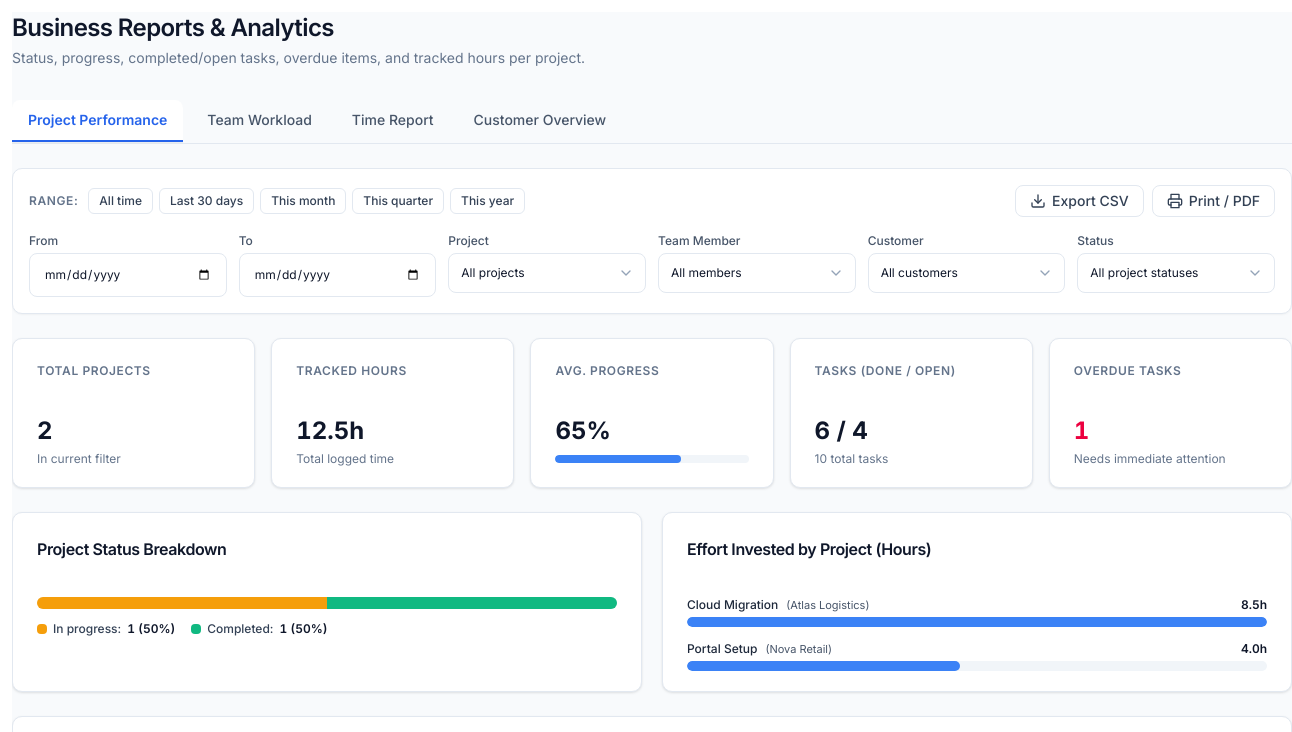
Test: ReportsPage › switches tabs to Customer Overview and displays portfolio data
Click the button "Customer Overview".
click(540, 121)  # box [458,100,622,142]
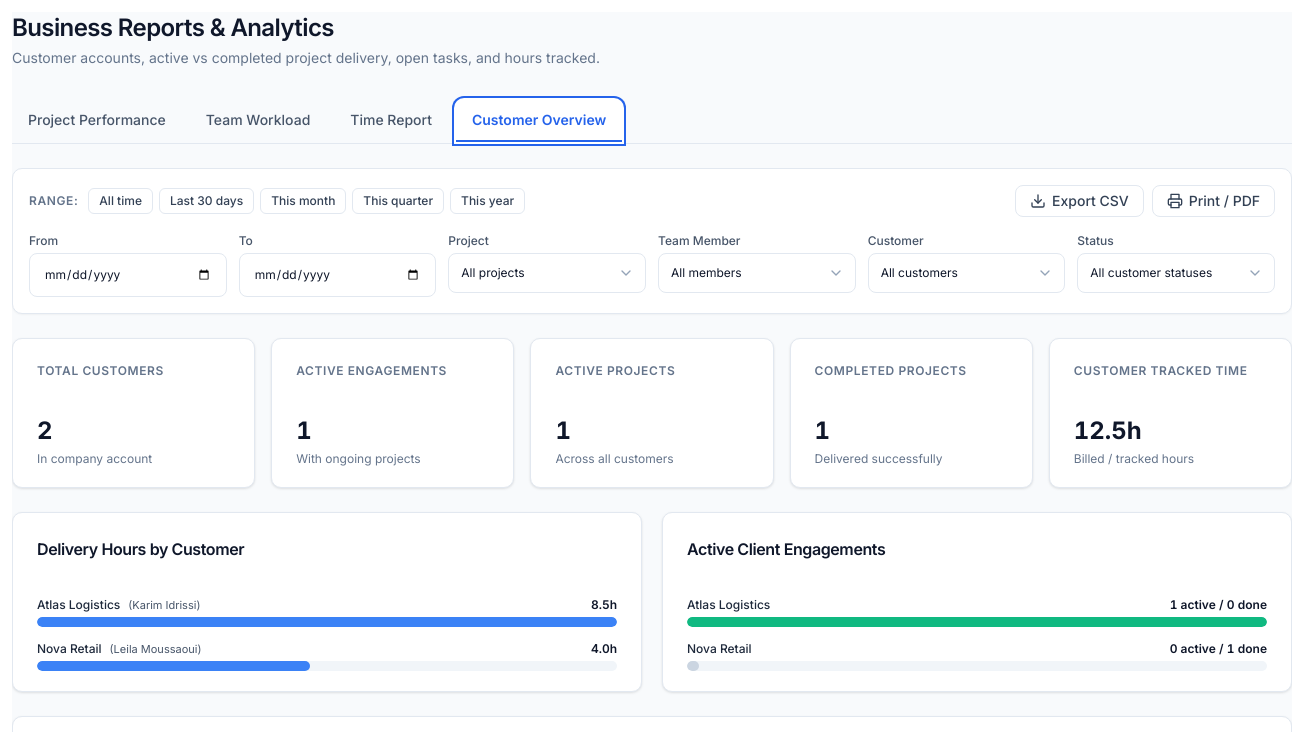
Expected: the text "Total Customers" is shown, [37,363,164,378]
Expected: the text "Active Engagements" is shown, [296,363,447,378]
Expected: the text "Nova Retail" below "Delivery Hours by Customer" is shown, [37,641,102,656]
